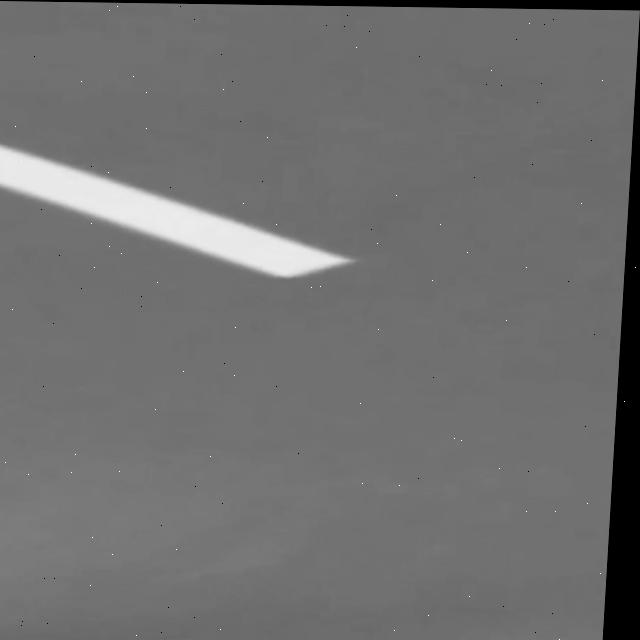center: (0, 143, 354, 275)
